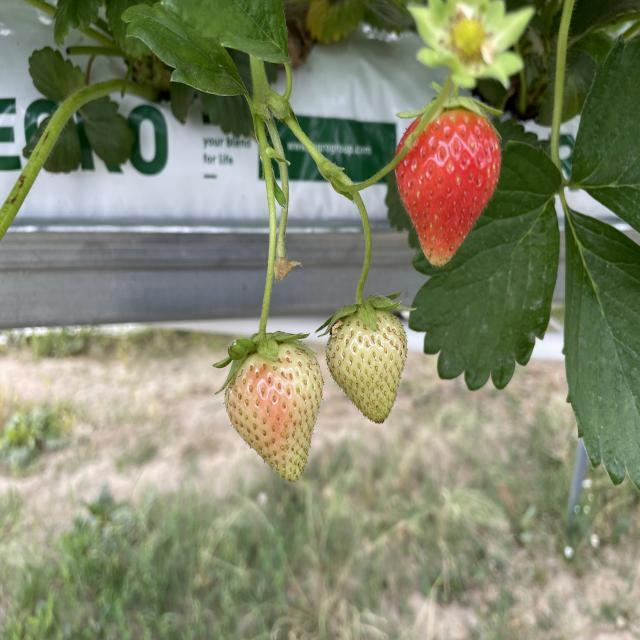stem: (216, 120, 301, 382), (324, 143, 407, 328), (399, 65, 500, 145)
strawberryNR: (324, 312, 403, 422)
strawberryR: (395, 108, 499, 264), (223, 344, 320, 480)
